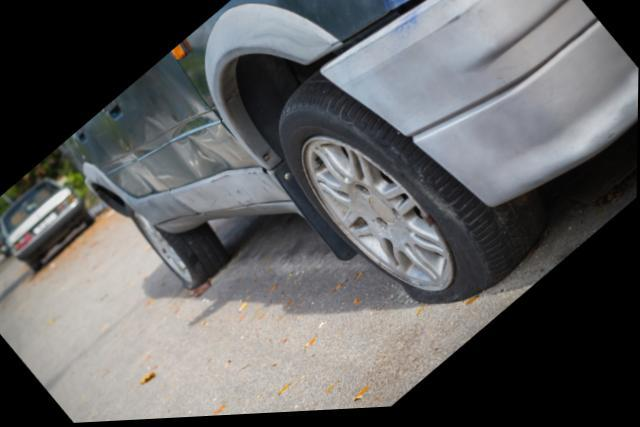dent: (184, 124, 264, 211)
tire flat: (278, 72, 550, 308), (124, 199, 232, 292)
